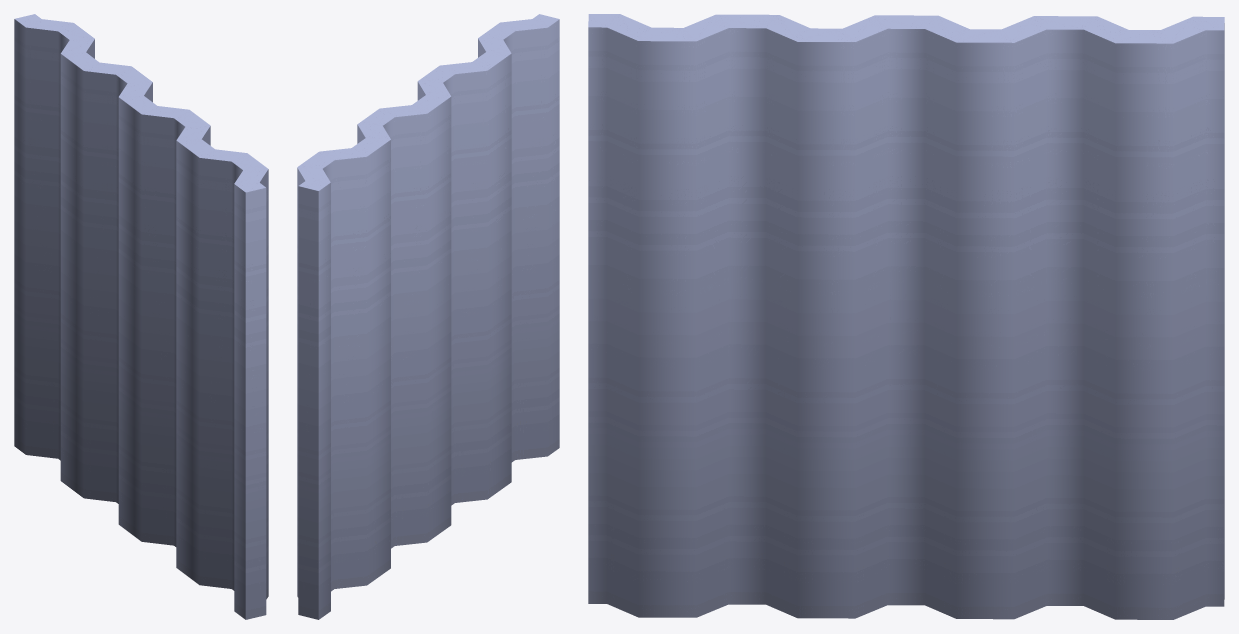
Rendered from metal-panel.006_lev3.glb.
3 views of the same model, side by side, from view 1: azimuth 30°, elevation 25°; view 2: azimuth 150°, elevation 25°; view 3: azimuth 270°, elevation 25° (orthographic). The views are drawn at different scales.
Visible parts, largest first — view 1: metal-panel.006_lev3; view 2: metal-panel.006_lev3; view 3: metal-panel.006_lev3.
Part boxes in pixels (x1,y1,x2,y2): metal-panel.006_lev3: [14, 14, 268, 619]; metal-panel.006_lev3: [297, 14, 559, 619]; metal-panel.006_lev3: [588, 14, 1224, 619].
Bounding box in the file's own units: 0.4521 × 4.11 × 4.11.
Materials: 1 (1 with a texture image).
